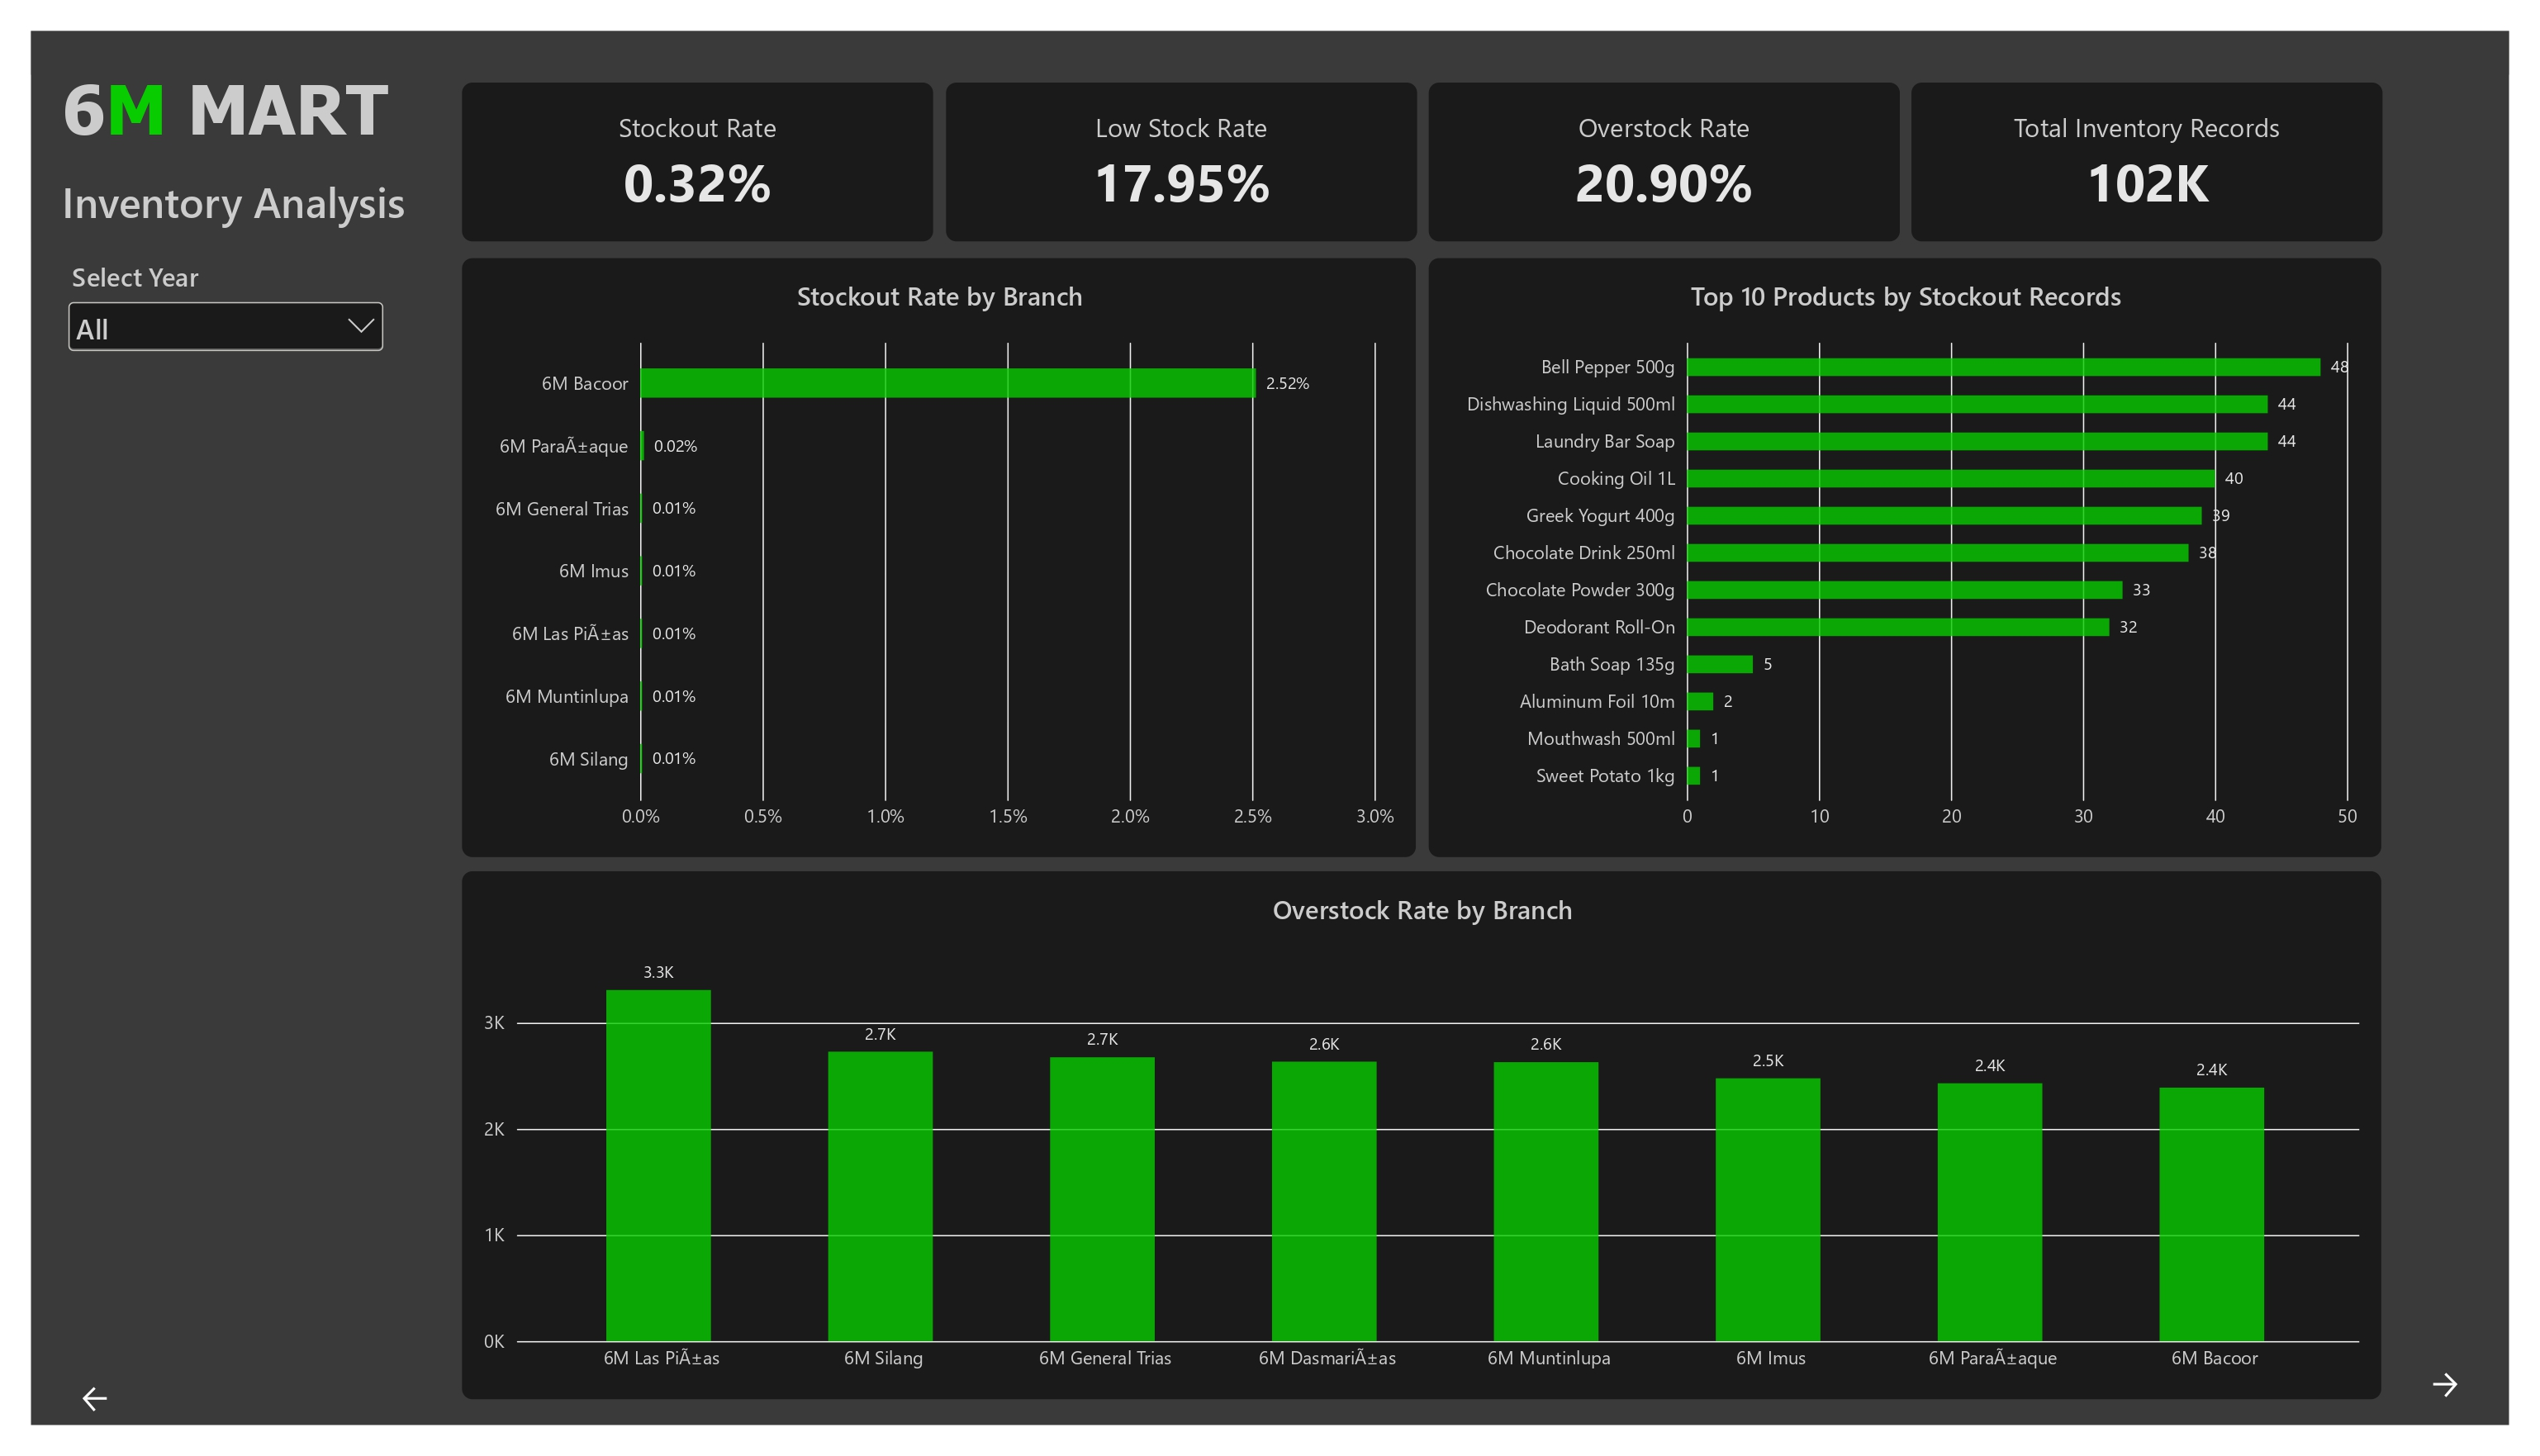

The page's visual inventory and layout, read from the dashboard file:
{"tool":"powerbi","page":{"name":"Inventory Analysis","canvas":[1920,1080],"ordinal":4},"visuals":[{"type":"textbox","box":[24.3,27.1,310,148.6],"z":0},{"type":"cardVisual","fields":{"Data":["_Measures.Stockout Rate"]},"box":[334.3,40,365,123.3],"z":1000},{"type":"cardVisual","fields":{"Data":["_Measures.Low Stock Rate"]},"box":[708.6,40,365,123.3],"z":2000},{"type":"cardVisual","fields":{"Data":["_Measures.Overstock Rate"]},"box":[1082.9,40,365,123.3],"z":3000},{"type":"cardVisual","fields":{"Data":["_Measures.Total Inventory Records"]},"box":[1457.1,40,365,123.3],"z":4000},{"type":"slicer","fields":{"Values":["public dim_date.year"]},"box":[24.3,175.7,253.3,95],"z":5000},{"type":"clusteredBarChart","title":"Stockout Rate by Branch","fields":{"Category":["public dim_branches.branch_name"],"Y":["_Measures.Stockout Rate"]},"box":[334.3,175.7,738.6,464.3],"z":6000},{"type":"clusteredBarChart","title":"Top 10 Products by Stockout Records","fields":{"Category":["public dim_products.product_name"],"Y":["_Measures.Stockout Records"]},"box":[1082.9,175.7,738.6,464.3],"z":7000},{"type":"clusteredColumnChart","title":"Overstock Rate by Branch","fields":{"Category":["public dim_branches.branch_name"],"Y":["_Measures.Overstock Records"]},"box":[334.3,651.4,1487.1,408.6],"z":8000},{"type":"actionButton","box":[1820,1028.6,100,40],"z":8001},{"type":"actionButton","box":[0,1040,100,40],"z":8002}]}

Visuals, with their boxes on the page's 1920x1080 design canvas (x1, y1, x2, y2). These are canvas units, not pixel positions in the 2540x1456 screenshot, which may show the page scaled, cropped or inside an application window:
textbox: {"x1": 24, "y1": 27, "x2": 334, "y2": 176}
cardVisual - _Measures.Stockout Rate: {"x1": 334, "y1": 40, "x2": 699, "y2": 163}
cardVisual - _Measures.Low Stock Rate: {"x1": 709, "y1": 40, "x2": 1074, "y2": 163}
cardVisual - _Measures.Overstock Rate: {"x1": 1083, "y1": 40, "x2": 1448, "y2": 163}
cardVisual - _Measures.Total Inventory Records: {"x1": 1457, "y1": 40, "x2": 1822, "y2": 163}
slicer - public dim_date.year: {"x1": 24, "y1": 176, "x2": 278, "y2": 271}
"Stockout Rate by Branch" clusteredBarChart: {"x1": 334, "y1": 176, "x2": 1073, "y2": 640}
"Top 10 Products by Stockout Records" clusteredBarChart: {"x1": 1083, "y1": 176, "x2": 1822, "y2": 640}
"Overstock Rate by Branch" clusteredColumnChart: {"x1": 334, "y1": 651, "x2": 1821, "y2": 1060}
actionButton: {"x1": 1820, "y1": 1029, "x2": 1920, "y2": 1069}
actionButton: {"x1": 0, "y1": 1040, "x2": 100, "y2": 1080}
